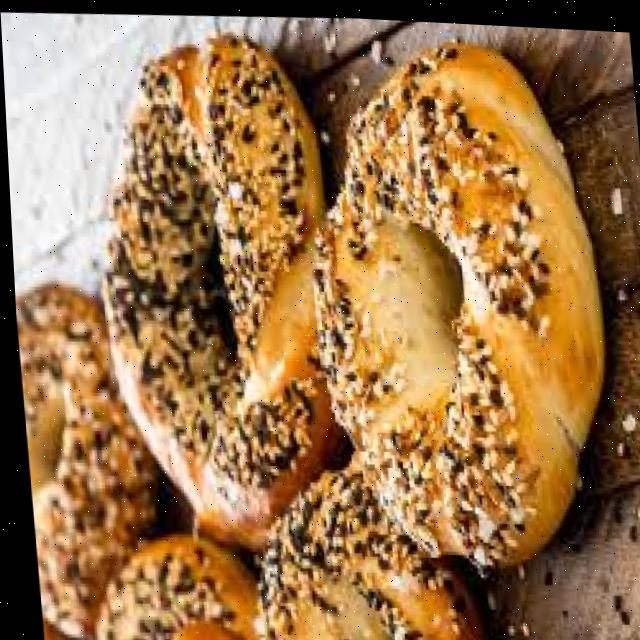Bagel: (316, 44, 598, 559), (100, 33, 336, 543), (12, 283, 153, 638), (248, 467, 479, 640), (91, 537, 252, 640)
